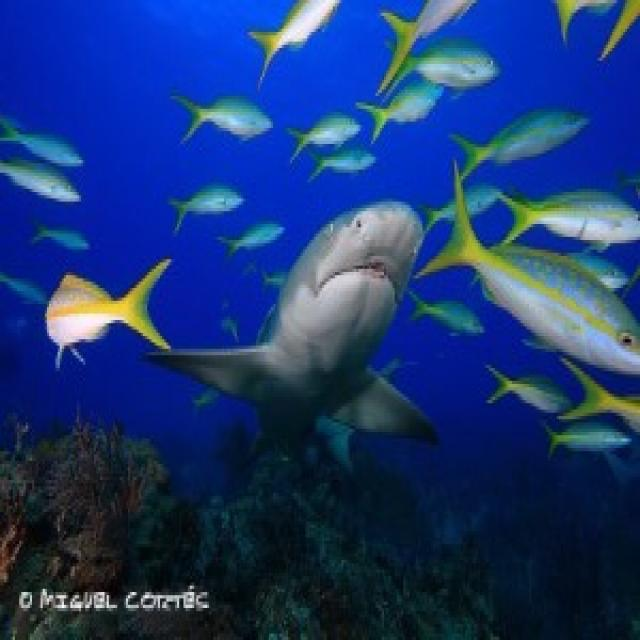Shark: (142, 202, 445, 464)
